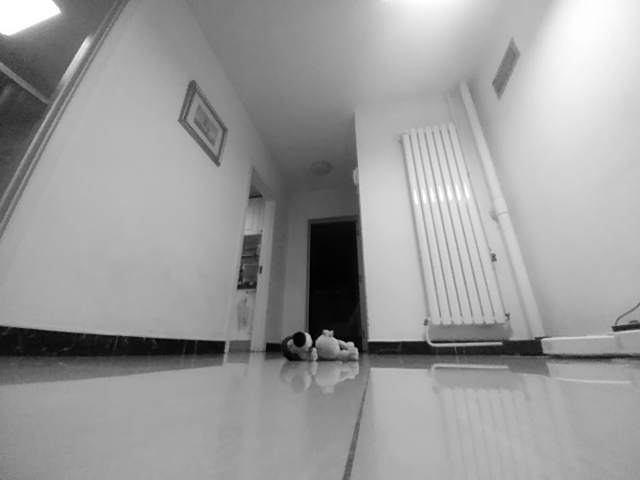toy: (279, 329, 360, 365)
